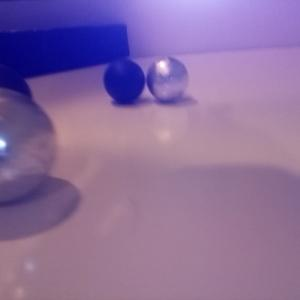alive_ball: (1, 86, 56, 205), (146, 57, 189, 103)
dead_ball: (1, 66, 34, 135), (102, 59, 147, 105)
